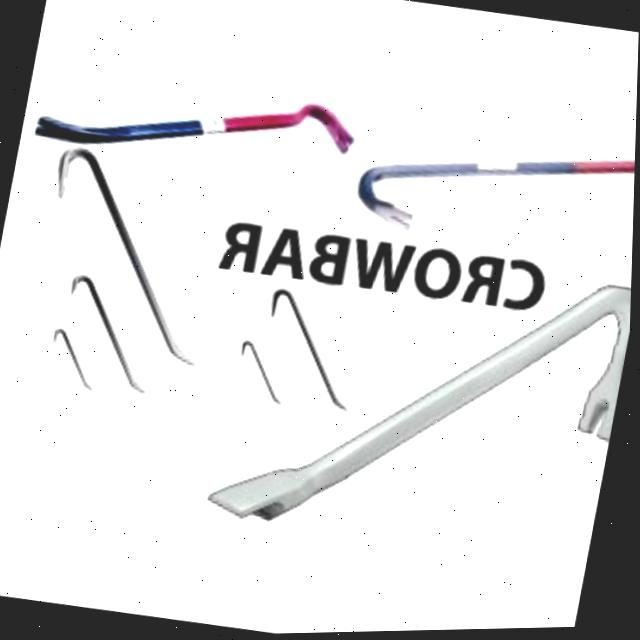crow bar: (209, 273, 633, 534)
